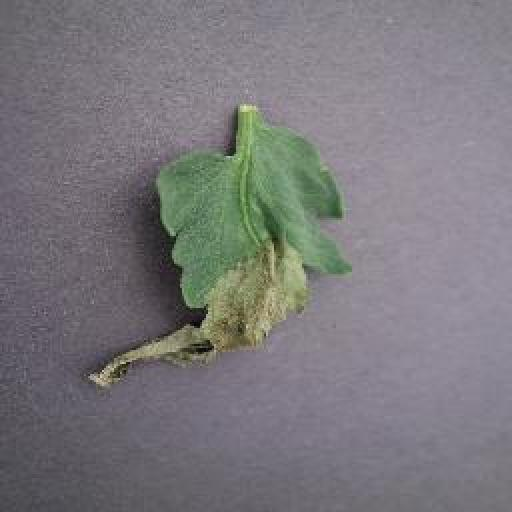Late Blight: (86, 128, 350, 395)
